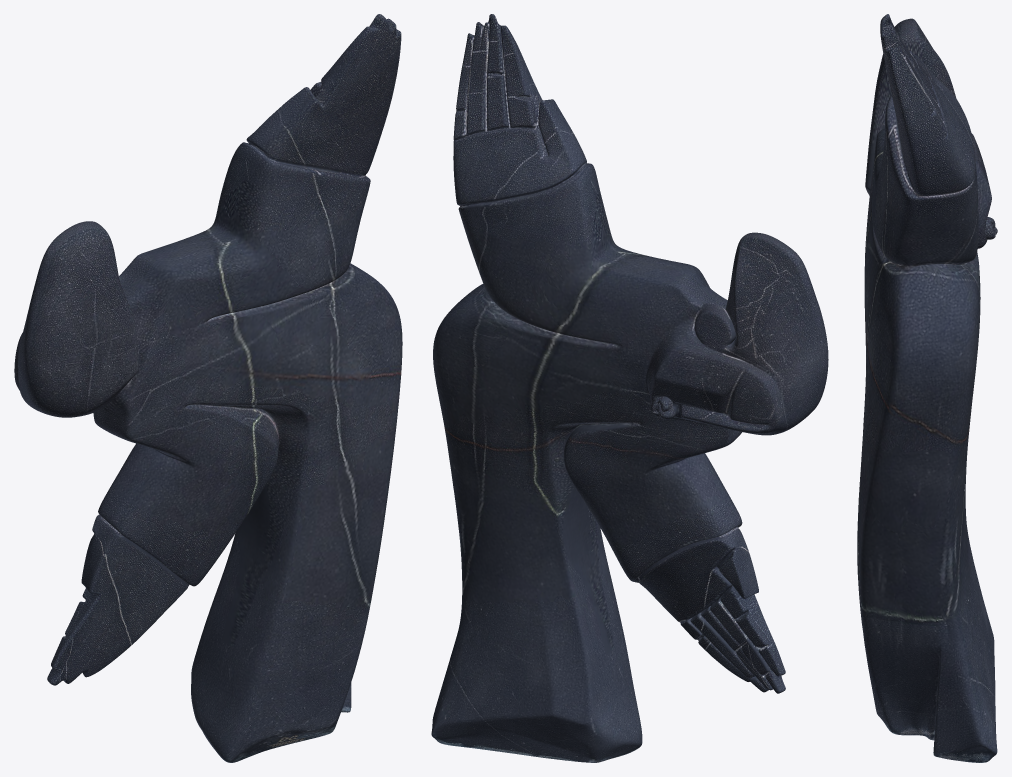
Rendered from happy-times-uploaded-v1.glb.
3 renders of one model, left to right at view 1: azimuth 30°, elevation 25°; view 2: azimuth 150°, elevation 25°; view 3: azimuth 270°, elevation 25°, orthographic. The views are drawn at different scales.
Size of the model in its own units: 1.05 by 1.9 by 0.3228.
Materials: 1 (1 with a texture image).
